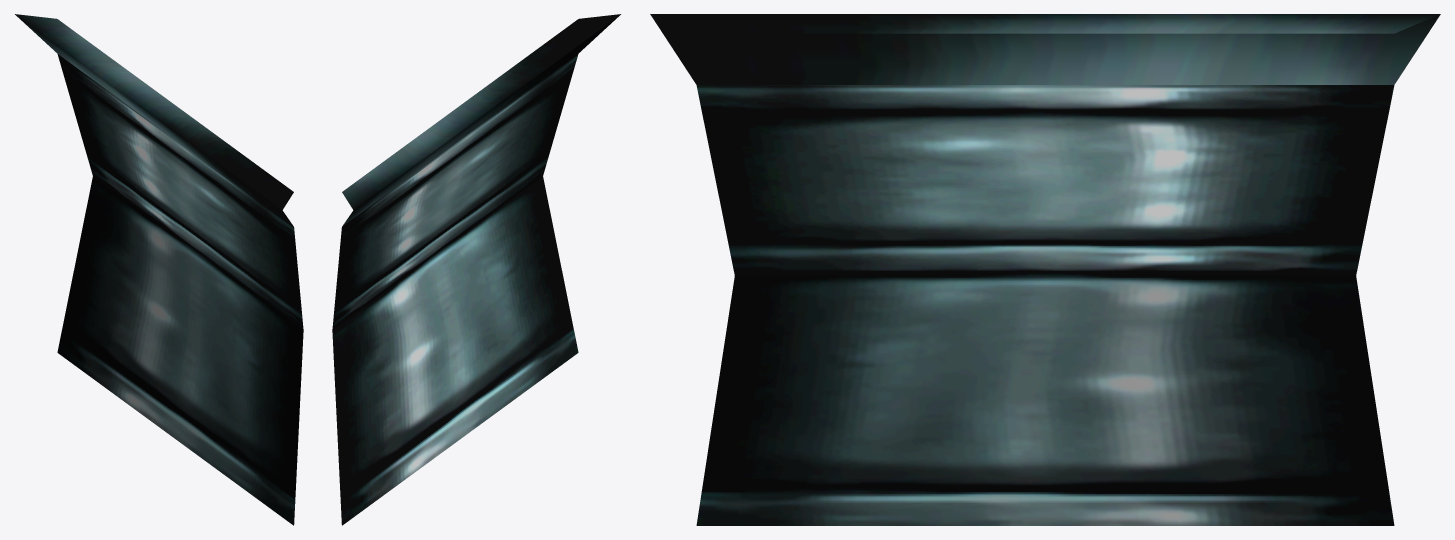
The model's file is W_A1_xx [Rohr]_473.glb.
3 renders of one model, left to right at view 1: azimuth 30°, elevation 25°; view 2: azimuth 150°, elevation 25°; view 3: azimuth 270°, elevation 25°, orthographic. The views are drawn at different scales.
Parts seen in each view (by area): view 1: pPlaneShape1, polySurfaceShape1065; view 2: pPlaneShape1, polySurfaceShape1065; view 3: pPlaneShape1, polySurfaceShape1065.
Boxes of the visible parts, x1,y1,x2,y2 form: pPlaneShape1: (57,54,303,525); polySurfaceShape1065: (15,14,293,226); pPlaneShape1: (332,54,578,525); polySurfaceShape1065: (342,14,620,226); pPlaneShape1: (696,85,1394,525); polySurfaceShape1065: (650,14,1440,84).
Size of the model in its own units: 0.0607 by 0.3891 by 0.5666.
2 materials, 2 textured.
